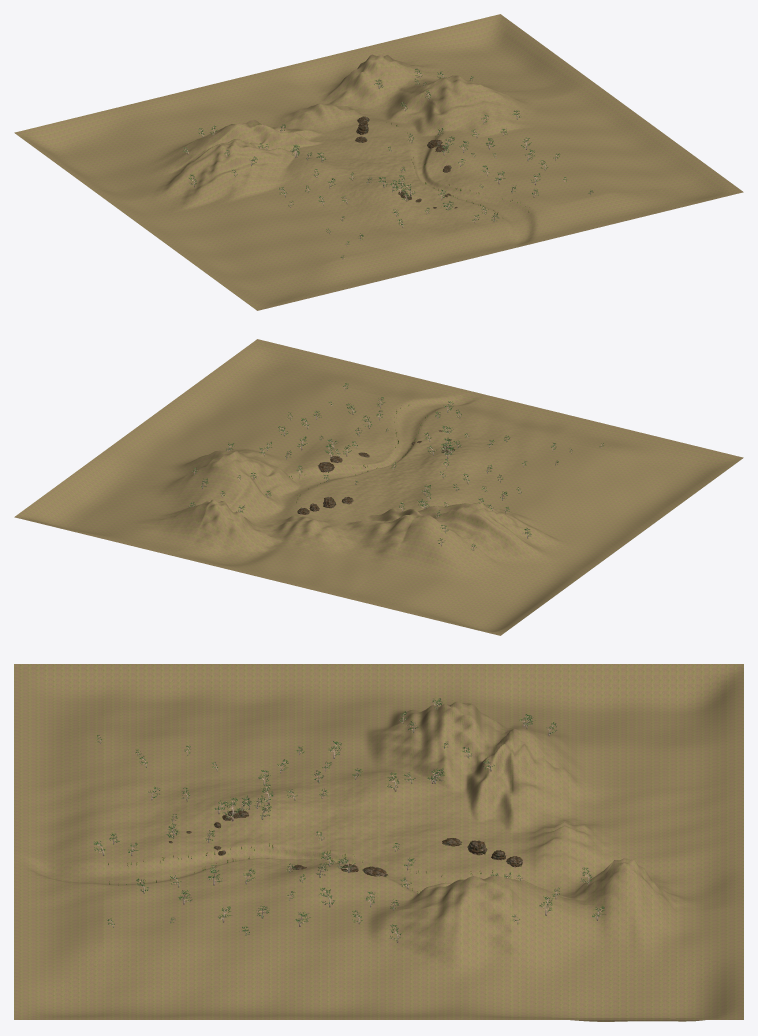
The model's file is first-light.glb.
3 views of the same model, one above another, from view 1: azimuth 30°, elevation 25°; view 2: azimuth 150°, elevation 25°; view 3: azimuth 270°, elevation 25° (orthographic). The views are drawn at different scales.
Visible parts, largest first — view 1: FirstLightTerrain; view 2: FirstLightTerrain; view 3: FirstLightTerrain.
Part boxes in pixels (<box>): FirstLightTerrain: <box>14,14,743,310</box>; FirstLightTerrain: <box>14,339,743,635</box>; FirstLightTerrain: <box>14,664,743,1021</box>.
Bounding box in the file's own units: 360 × 32.31 × 312.
5 materials, 2 textured.
